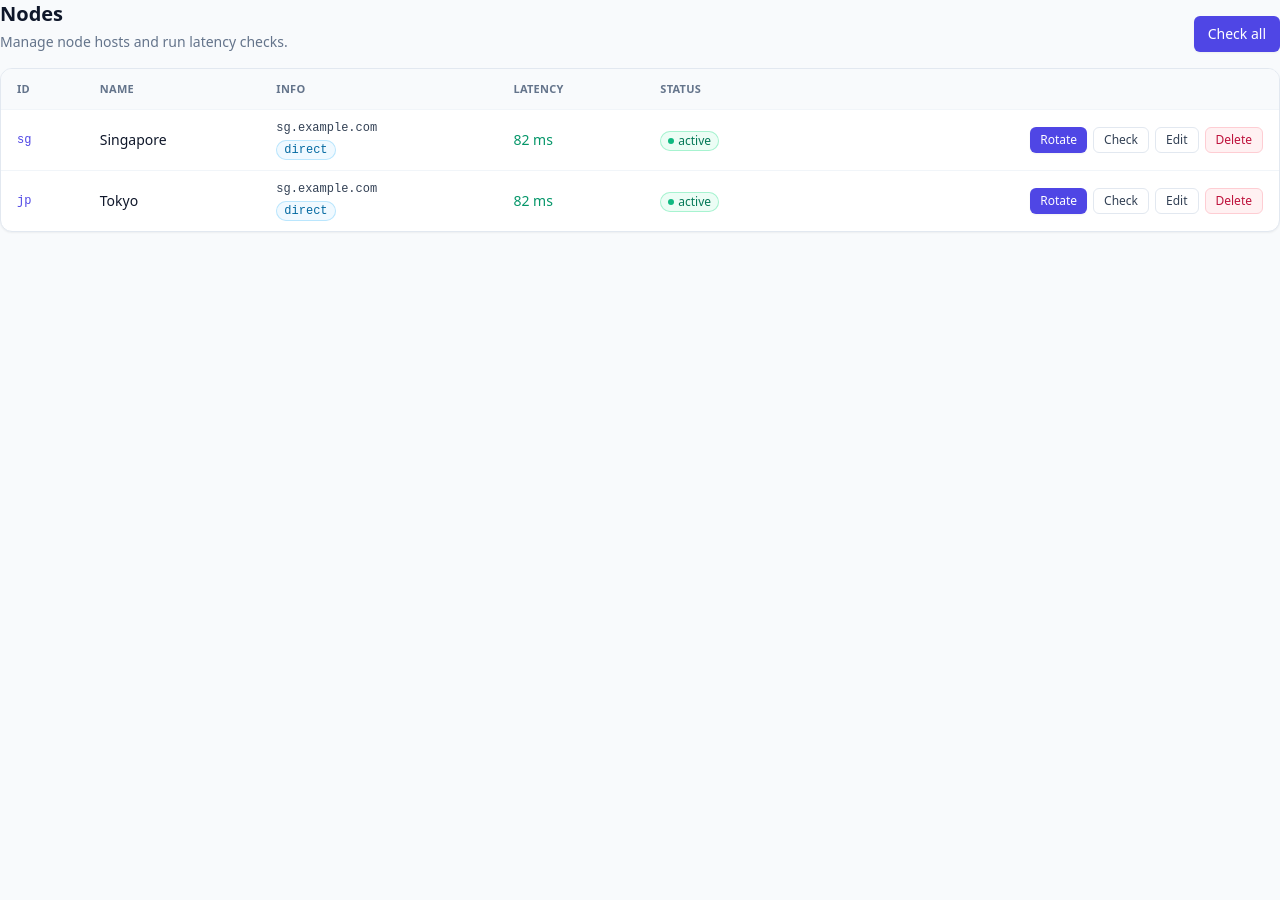
Scenario: delete confirms then removes the node from the table
The width and height of the screenshot is (1280, 900).
Expected: the text "Singapore" is shown, [84,110,260,170]
Click the button "Delete" in the row of "Singapore" at (1234, 140), box [1204,127,1263,153]
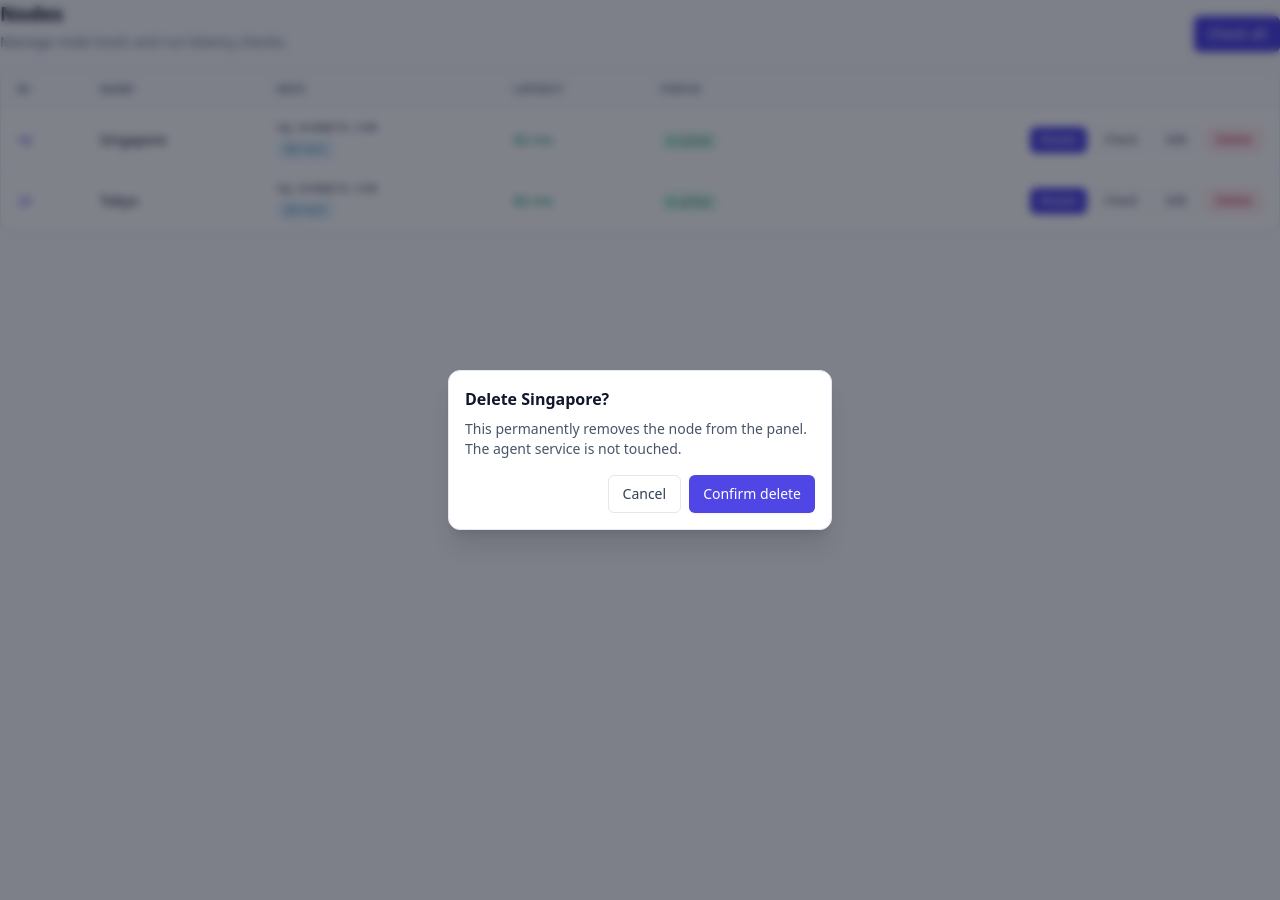
Click the button "Confirm delete" at (752, 494), box [689,475,815,513]
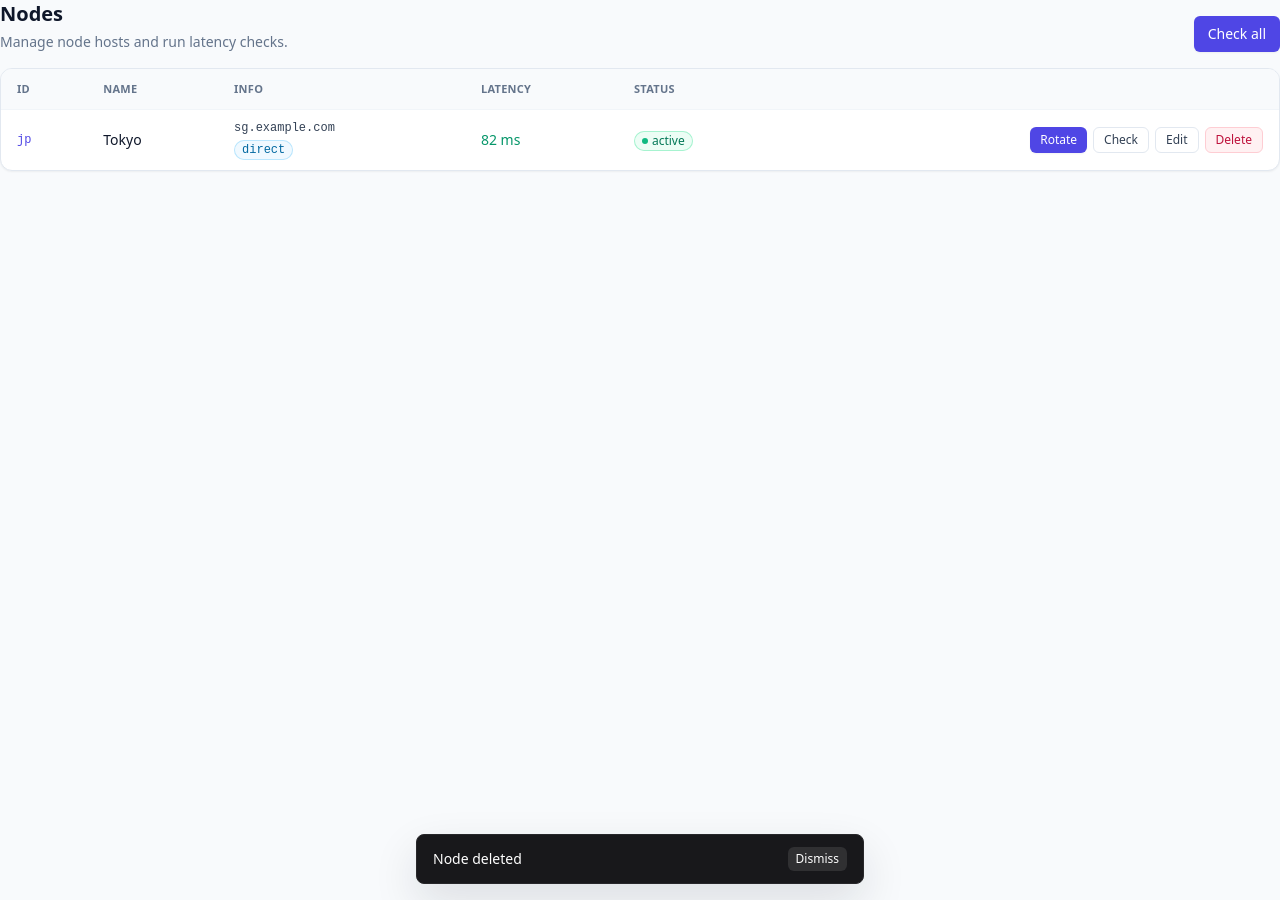
Expected: the text "Tokyo" is shown, [87,110,218,170]
Expected: the text "Node deleted" is shown, [433,849,522,869]
Expected: the text "Singapore" is gone
